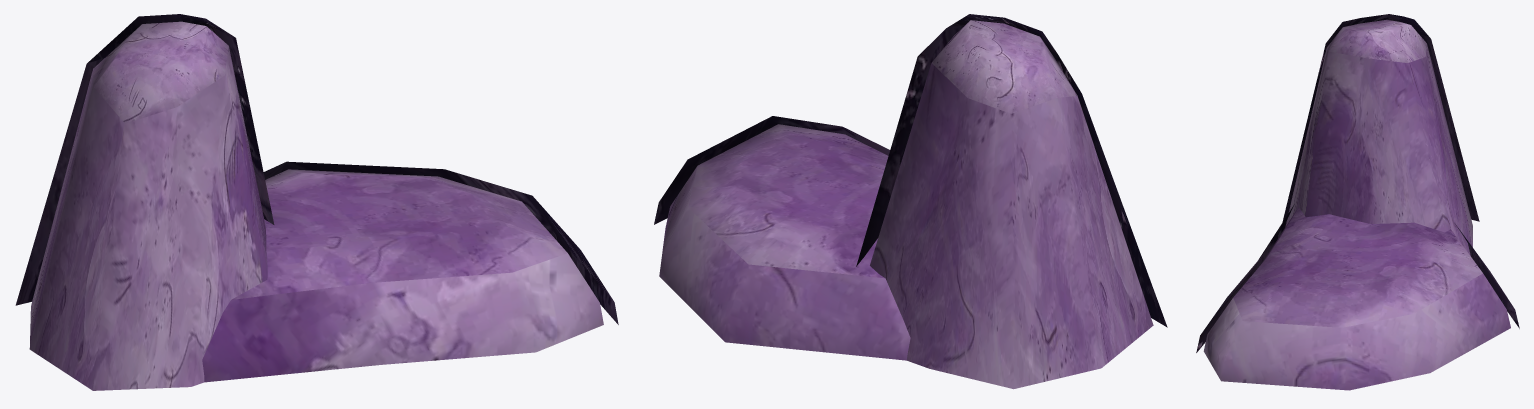
Rendered from pm-rock-01-2.glb.
3 views of the same model, side by side, from view 1: azimuth 30°, elevation 25°; view 2: azimuth 150°, elevation 25°; view 3: azimuth 270°, elevation 25° (orthographic). The views are drawn at different scales.
Visible parts, largest first — view 1: Rock_01_Art; view 2: Rock_01_Art; view 3: Rock_01_Art.
Part boxes in pixels (x1=…): Rock_01_Art: x1=15, y1=14, x2=618, y2=390; Rock_01_Art: x1=654, y1=14, x2=1167, y2=389; Rock_01_Art: x1=1196, y1=14, x2=1519, y2=390.
Size of what is drawn, in the model's own units: 4.24 by 2.47 by 3.03.
Materials: 2 (2 with a texture image).
